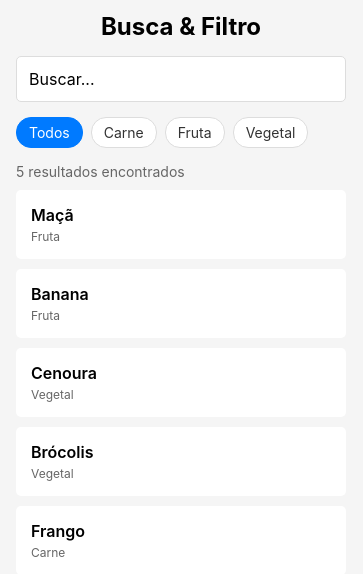
Componente SearchFilter › filtra itens por consulta de busca (insensível a maiúsculas)
This screenshot has width=363, height=574.
Type "maçã" into the field with test id "search-input" at (181, 79), box x1=16 y1=56 x2=346 y2=102
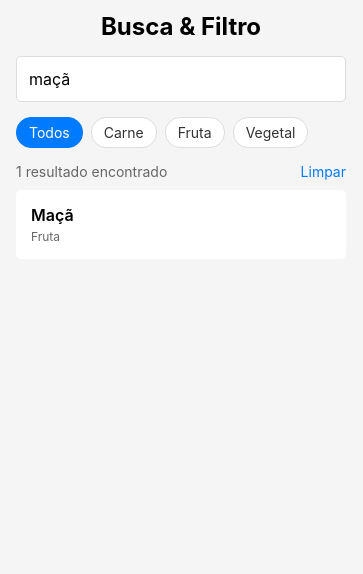
Expected: the element with test id "item-2" is gone
Expected: the element with test id "item-3" is gone
Expected: the text with test id "results-count" reads "1 resultado encontrado", x1=16 y1=163 x2=167 y2=180
